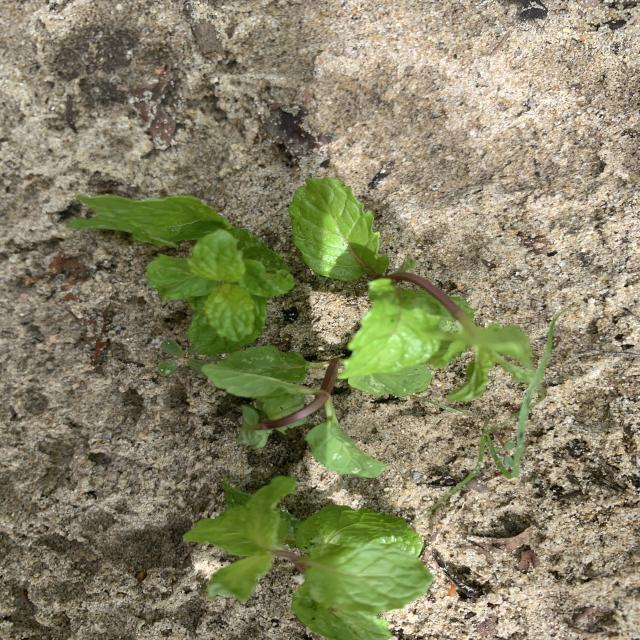crop: (289, 177, 534, 402), (185, 476, 433, 640), (67, 195, 294, 354), (203, 346, 385, 477)
weed: (431, 313, 560, 511)
